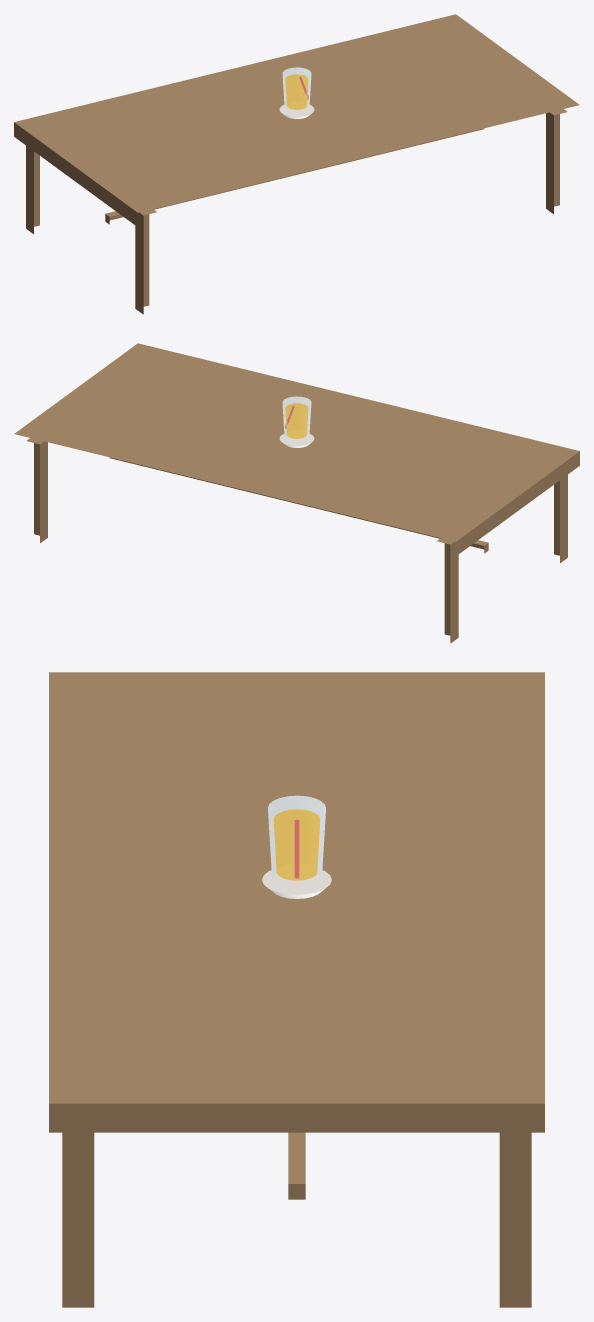
The model's file is jugo_mesa.glb.
3 renders of one model, top to bottom at view 1: azimuth 30°, elevation 25°; view 2: azimuth 150°, elevation 25°; view 3: azimuth 270°, elevation 25°, orthographic. The views are drawn at different scales.
Visible parts, largest first — view 1: tablero, pata (×3), jugo, refuerzo, vaso; view 2: tablero, pata (×3), jugo, refuerzo, vaso; view 3: tablero, pata (×2), jugo, vaso, platillo, refuerzo.
Part boxes in pixels (<box>): tablero: <box>14,14,579,226</box>; pata (×3): <box>26,109,567,314</box>; jugo: <box>285,74,308,109</box>; refuerzo: <box>105,128,484,224</box>; vaso: <box>282,67,311,108</box>; tablero: <box>14,343,579,555</box>; pata (×3): <box>26,438,567,643</box>; jugo: <box>285,403,308,438</box>; refuerzo: <box>109,457,488,553</box>; vaso: <box>282,396,311,437</box>; tablero: <box>49,672,544,1132</box>; pata (×2): <box>62,1132,531,1307</box>; jugo: <box>273,809,320,880</box>; vaso: <box>268,795,325,879</box>; platillo: <box>262,870,331,898</box>; refuerzo: <box>288,1132,305,1199</box>.
Bounding box in the file's own units: 7 × 2.22 × 3.4.
